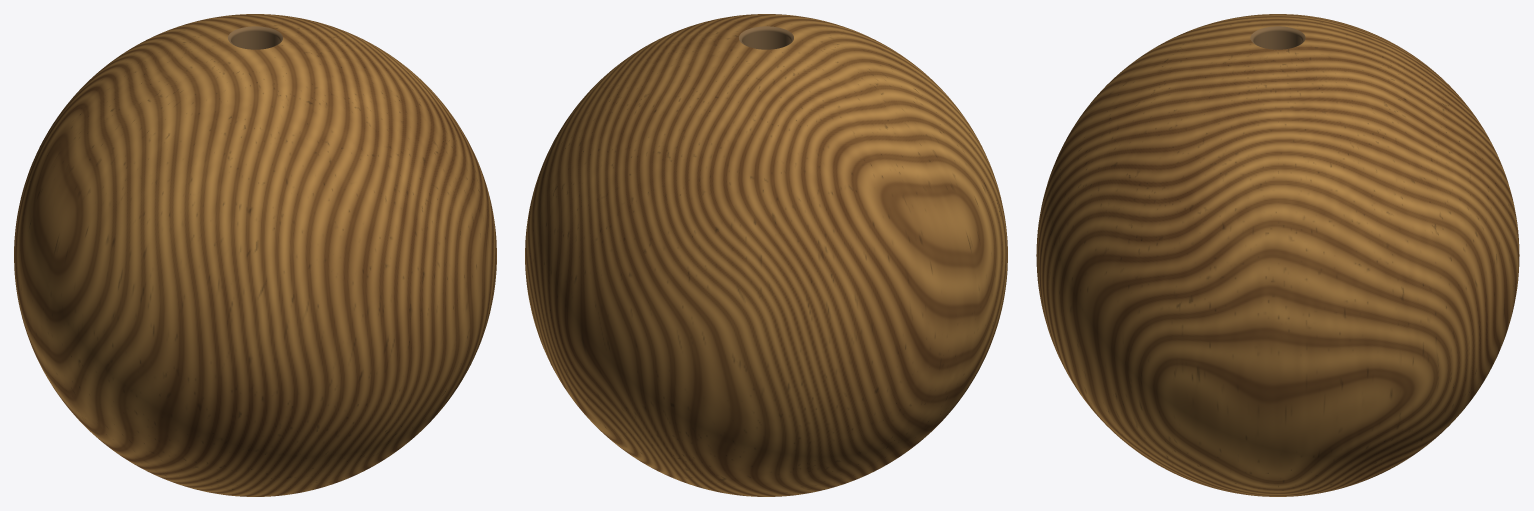
The model's file is wood-vietnam-huanghuali-10mm.glb.
3 views of the same model, side by side, from view 1: azimuth 30°, elevation 25°; view 2: azimuth 150°, elevation 25°; view 3: azimuth 270°, elevation 25° (orthographic).
Visible parts, largest first — view 1: vietnam-huanghuali; view 2: vietnam-huanghuali; view 3: vietnam-huanghuali.
Part boxes in pixels (x1,y1,x2,y2): vietnam-huanghuali: (14,14,496,496); vietnam-huanghuali: (525,14,1007,496); vietnam-huanghuali: (1036,14,1519,496).
Size of the model in its own units: 0.01 by 0.00993 by 0.01.
2 materials, 1 textured.
